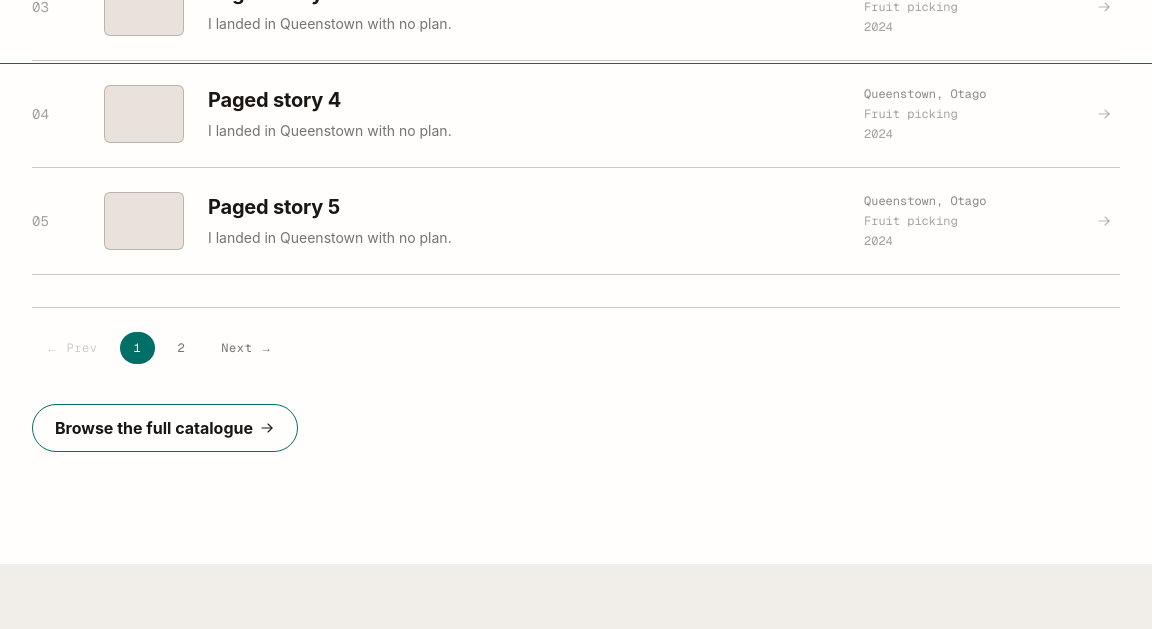
the record — pagination › returns to the first page when a filter changes
(page scrolled)
Click the button named "Page 2 of 2" at [181, 348], box x1=163 y1=332 x2=199 y2=364
(page scrolled)
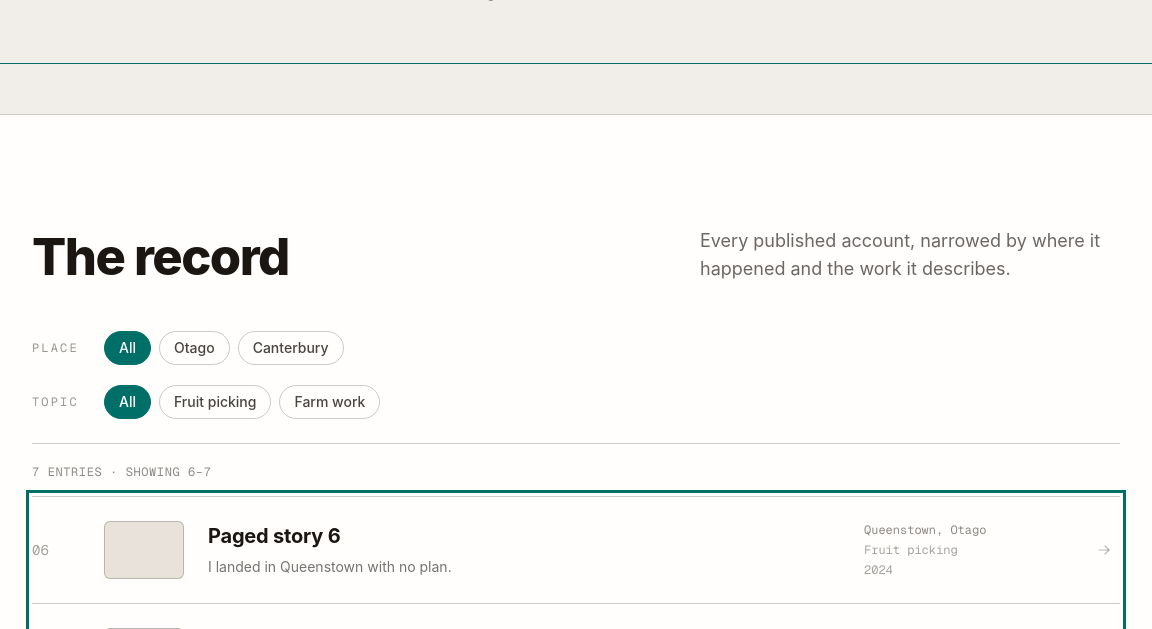
Expected: the text "SHOWING 6–7" is shown, x1=126 y1=464 x2=211 y2=480
Click the button "Canterbury" at [291, 348], box x1=238 y1=331 x2=344 y2=365
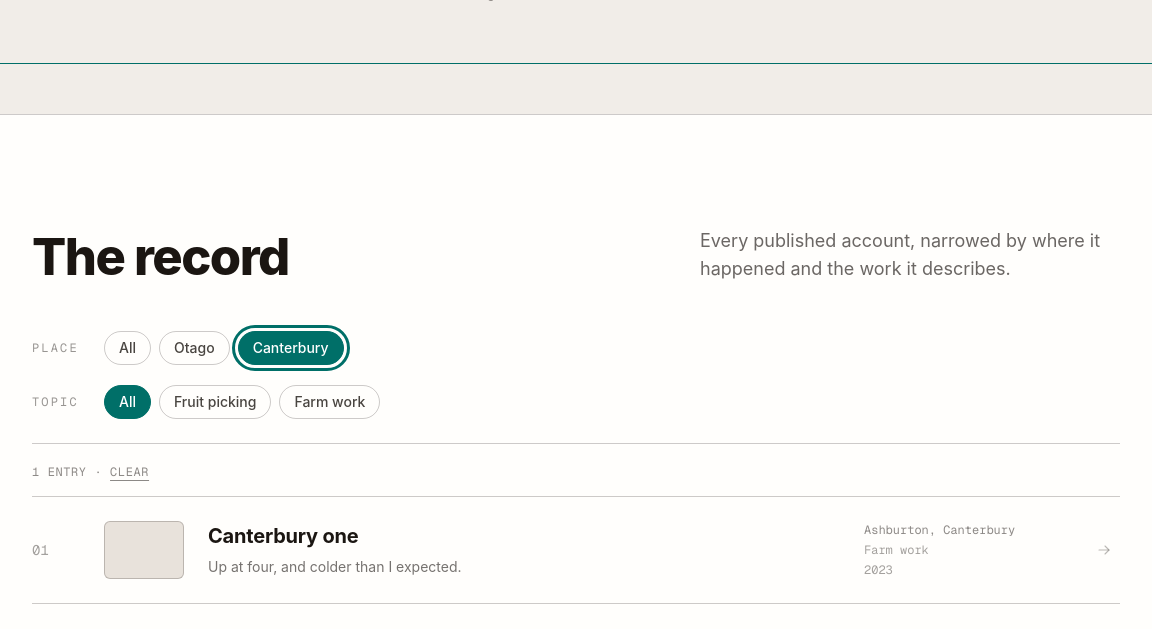
Expected: the heading "Canterbury one" is shown, x1=208 y1=524 x2=358 y2=548
Expected: the text "1 ENTRY · CLEAR" is shown, x1=32 y1=464 x2=149 y2=480
